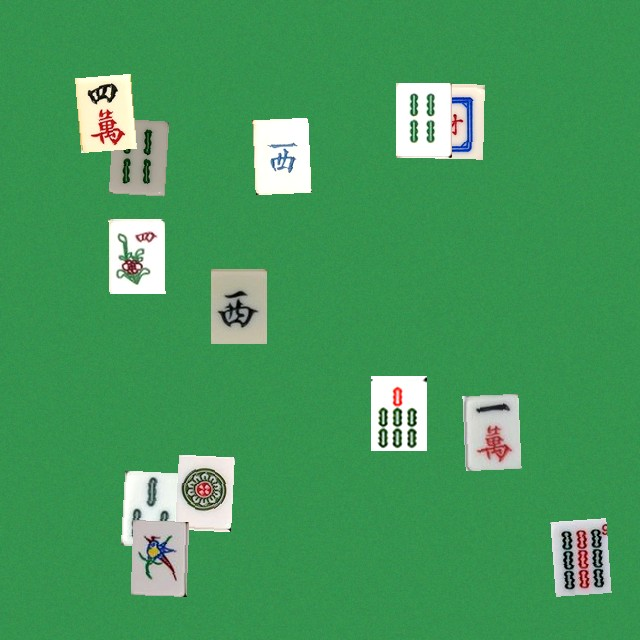tile: (108, 118, 164, 193), (252, 117, 308, 192), (75, 73, 131, 148), (462, 393, 518, 468), (120, 470, 176, 545), (210, 268, 266, 343), (175, 454, 231, 529), (108, 218, 164, 293), (427, 83, 483, 158), (550, 518, 606, 593), (370, 375, 426, 450), (395, 82, 451, 157), (130, 520, 186, 595)
